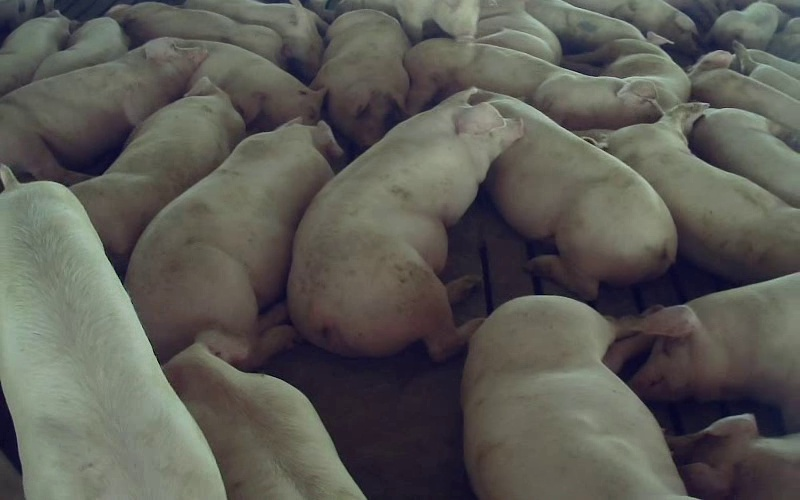pig: (0, 166, 223, 499), (288, 89, 522, 360), (125, 120, 341, 366), (462, 296, 685, 499), (473, 91, 676, 299), (575, 104, 799, 282), (163, 329, 364, 499), (71, 77, 244, 273), (0, 38, 206, 183), (631, 273, 799, 430), (404, 39, 660, 129), (311, 9, 409, 148), (175, 39, 323, 131), (184, 0, 327, 82), (106, 2, 283, 66), (689, 108, 799, 207), (563, 32, 690, 109), (689, 50, 799, 130), (566, 0, 699, 55), (525, 0, 644, 53), (32, 17, 129, 80), (0, 10, 70, 95), (476, 0, 561, 64), (708, 2, 789, 49)
